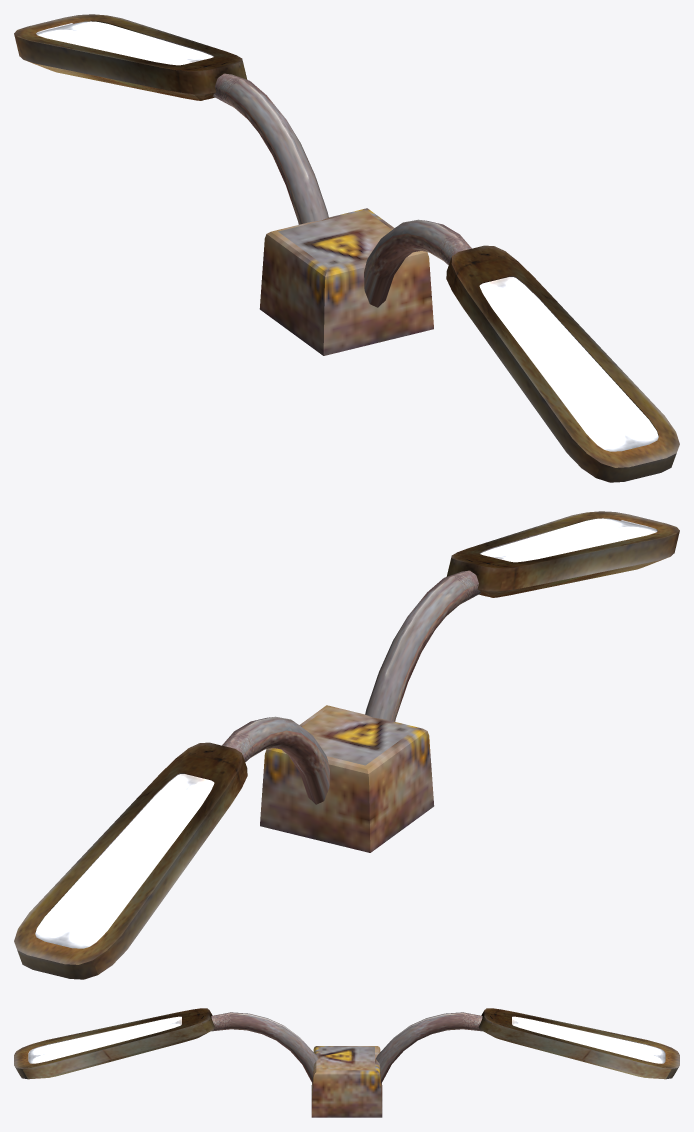
The model's file is LampPostSmall_Ceiling_ALL.FBX.
The picture shows the model from 3 angles, top to bottom: view 1: azimuth 30°, elevation 25°; view 2: azimuth 150°, elevation 25°; view 3: azimuth 270°, elevation 25°; orthographic projection. The views are drawn at different scales.
Visible parts, largest first — view 1: StreetLampSmall_LOD0, Source1, Source2; view 2: StreetLampSmall_LOD0, Source2, Source1; view 3: StreetLampSmall_LOD0, Source1, Source2.
Part boxes in pixels (x1,y1,x2,y2): StreetLampSmall_LOD0: (14,14,679,482); Source1: (479,277,658,451); Source2: (36,21,213,65); StreetLampSmall_LOD0: (14,511,679,979); Source2: (35,774,214,948); Source1: (480,518,657,562); StreetLampSmall_LOD0: (14,1008,679,1117); Source1: (28,1016,181,1063); Source2: (512,1016,665,1063).
Size of what is drawn, in the model's own units: 308 by 432 by 2905.
